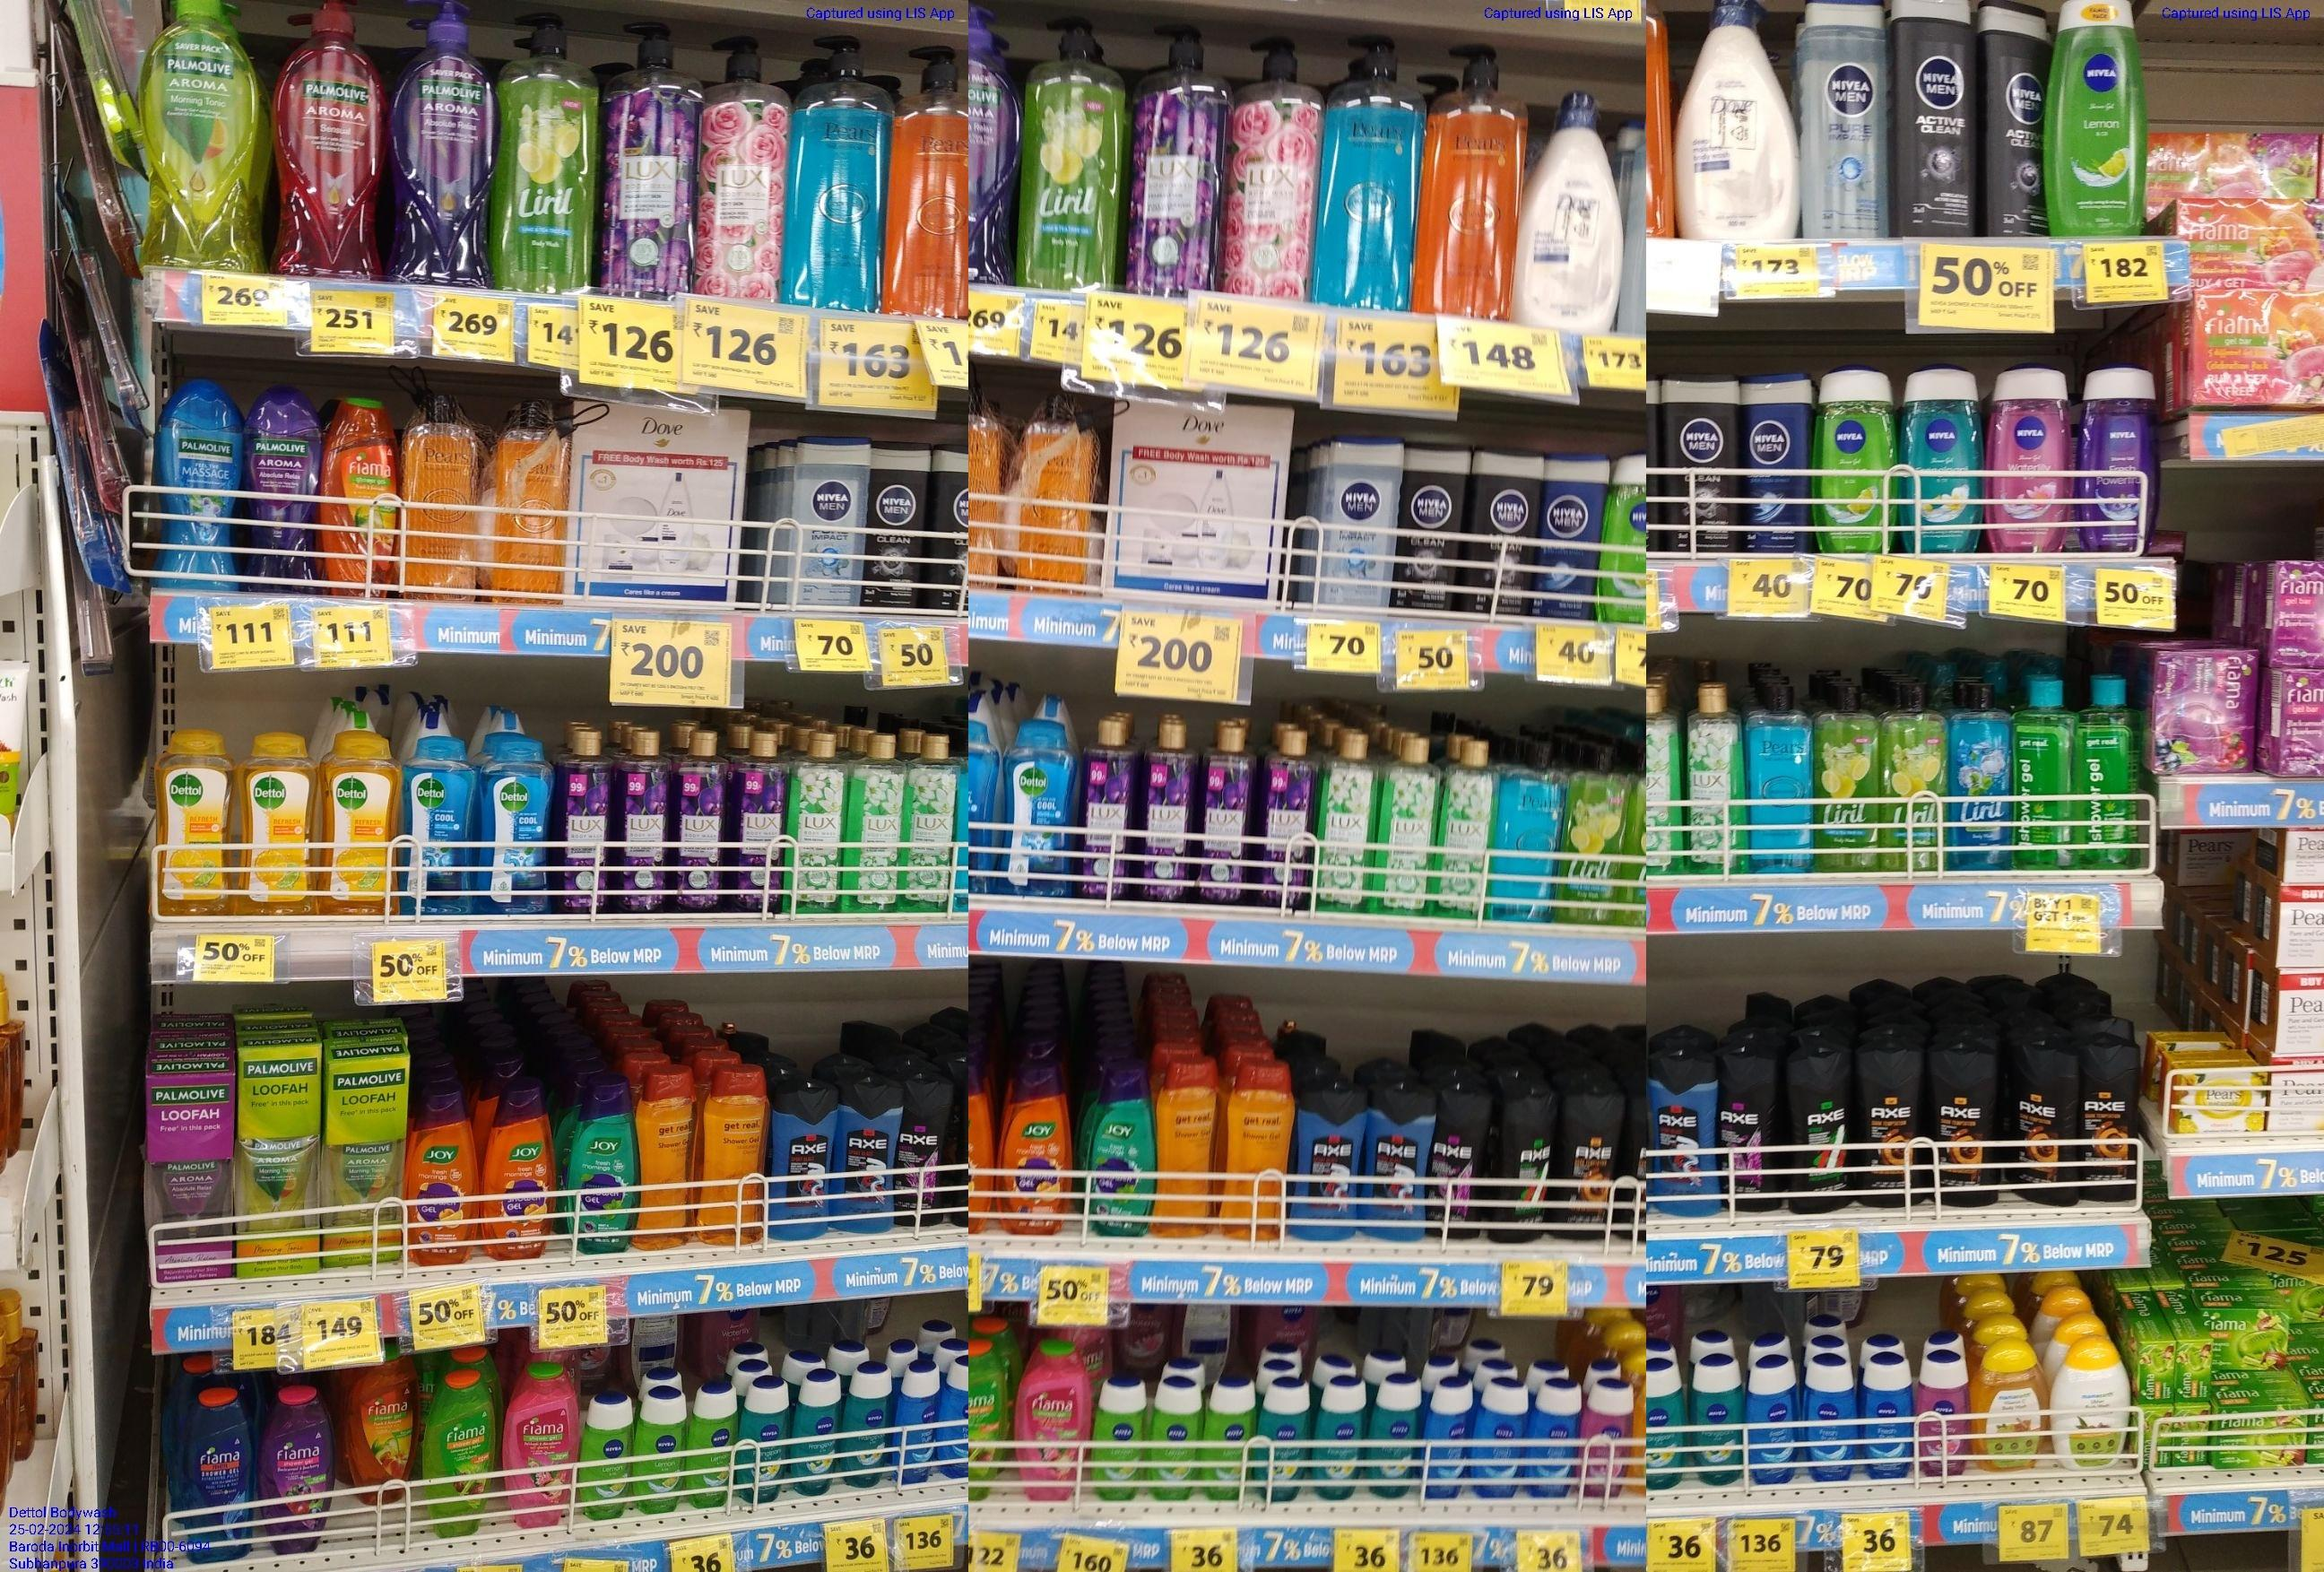Dettol_Bodywash_Cool: (1002, 721, 1077, 895), (403, 740, 475, 914), (481, 742, 549, 912)
Dettol_Bodywash_Refresh: (239, 739, 317, 914), (324, 732, 400, 914), (156, 733, 232, 912)
Fiama_Shower_Gel_Lemongrass_and_Jojoba_250ML: (424, 1375, 496, 1537)
Fiama_Shower_Gel_Patchouli_and_Macadamia_250ML: (510, 1365, 574, 1530), (1017, 1347, 1086, 1498)
Fiama_Shower_Gel_Peach_and_Avocado_250ML: (324, 398, 400, 595), (351, 1347, 419, 1507)
Get_Real_Shower_Gel_Moisturising_Glycerin_300ML: (702, 1068, 772, 1244), (1230, 1061, 1294, 1242), (1158, 1060, 1219, 1235), (640, 1070, 698, 1247)
Joy_Shower_Gel_Mandarin_and_Lemongrass_250ML: (409, 1091, 481, 1263), (482, 1088, 554, 1258), (996, 1072, 1072, 1233)
Joy_Shower_Gel_Mint_and_Eucalyptus_250ML: (567, 1081, 640, 1251), (1087, 1075, 1156, 1237)
Liril_Cooling_Mint_Body_Wash_250ML: (1952, 682, 2014, 870)
Liril_Lime_and_Tea_Tree_Oil_Body_Wash_250ML: (1882, 682, 1950, 872), (1815, 684, 1878, 870), (1572, 746, 1631, 923)
Lux_Black_Orchid_Scent_and_Juniper_Oil_Body_Wash_245ML: (1082, 719, 1135, 898), (1140, 723, 1191, 900), (561, 730, 610, 912), (1205, 725, 1254, 904), (1268, 730, 1314, 909), (679, 730, 723, 911), (740, 733, 784, 912), (626, 728, 667, 914)
Lux_Body_Wash_Skin_Detox_Freesia_Scent_and_Alove_Vera_245ML: (1445, 740, 1501, 921), (1689, 688, 1742, 874), (789, 732, 842, 912), (1324, 732, 1375, 912), (1389, 735, 1438, 916), (856, 735, 905, 912), (909, 735, 956, 914)
Nivea_Shower_Gel_Frangipani_and_Oil_250ML: (1901, 367, 1982, 551)
Nivea_Shower_Gel_Fresh_Powerfruit_250ML: (2082, 365, 2161, 547)
Nivea_Shower_Gel_Lemon_and_Oil_250ML: (2043, 0, 2145, 237), (1815, 370, 1896, 554)
Nivea_Shower_Gel_Waterlily_and_Oil_250ML: (1989, 365, 2071, 553)
Palmolive_Aroma_Moments_Feel_The_Massage_Shower_Gel_250ML: (158, 381, 244, 591)
Palmolive_Aroma_Relax_250ML: (247, 389, 321, 591)
Pears_Pure_Glycerin_and_Mint_Extracts_Body_Wash_250ML: (1745, 682, 1812, 872), (1505, 737, 1568, 923)
